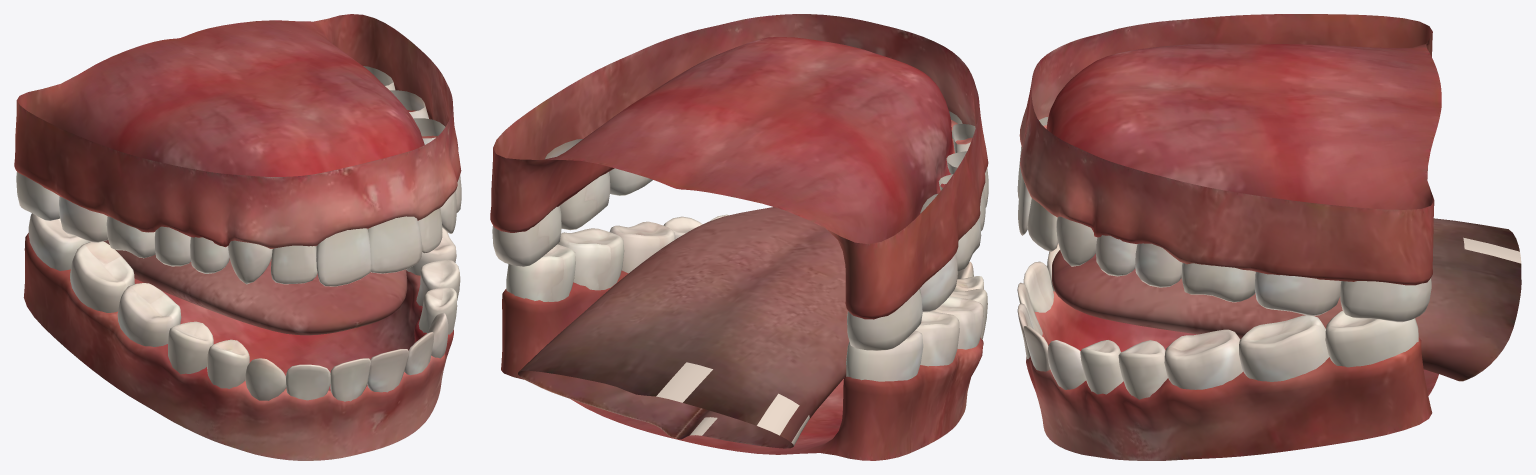
The picture shows the model from 3 angles, left to right: view 1: azimuth 30°, elevation 25°; view 2: azimuth 150°, elevation 25°; view 3: azimuth 270°, elevation 25°; orthographic projection. The views are drawn at different scales.
Parts seen in each view (by area): view 1: Object_3, Object_6, Object_8; view 2: Object_3, Object_8, Object_6; view 3: Object_3, Object_6, Object_8.
Part boxes in pixels (x1,y1,x2,y2): Object_3: (14, 14, 461, 460); Object_6: (16, 66, 461, 401); Object_8: (103, 240, 407, 335); Object_3: (490, 14, 988, 460); Object_8: (518, 207, 849, 448); Object_6: (492, 111, 988, 381); Object_3: (1019, 14, 1521, 460); Object_6: (1017, 116, 1431, 399); Object_8: (1052, 218, 1521, 381).
Size of the model in its own units: 2.17 by 1.71 by 2.34.
Materials: 3 (3 with a texture image).
